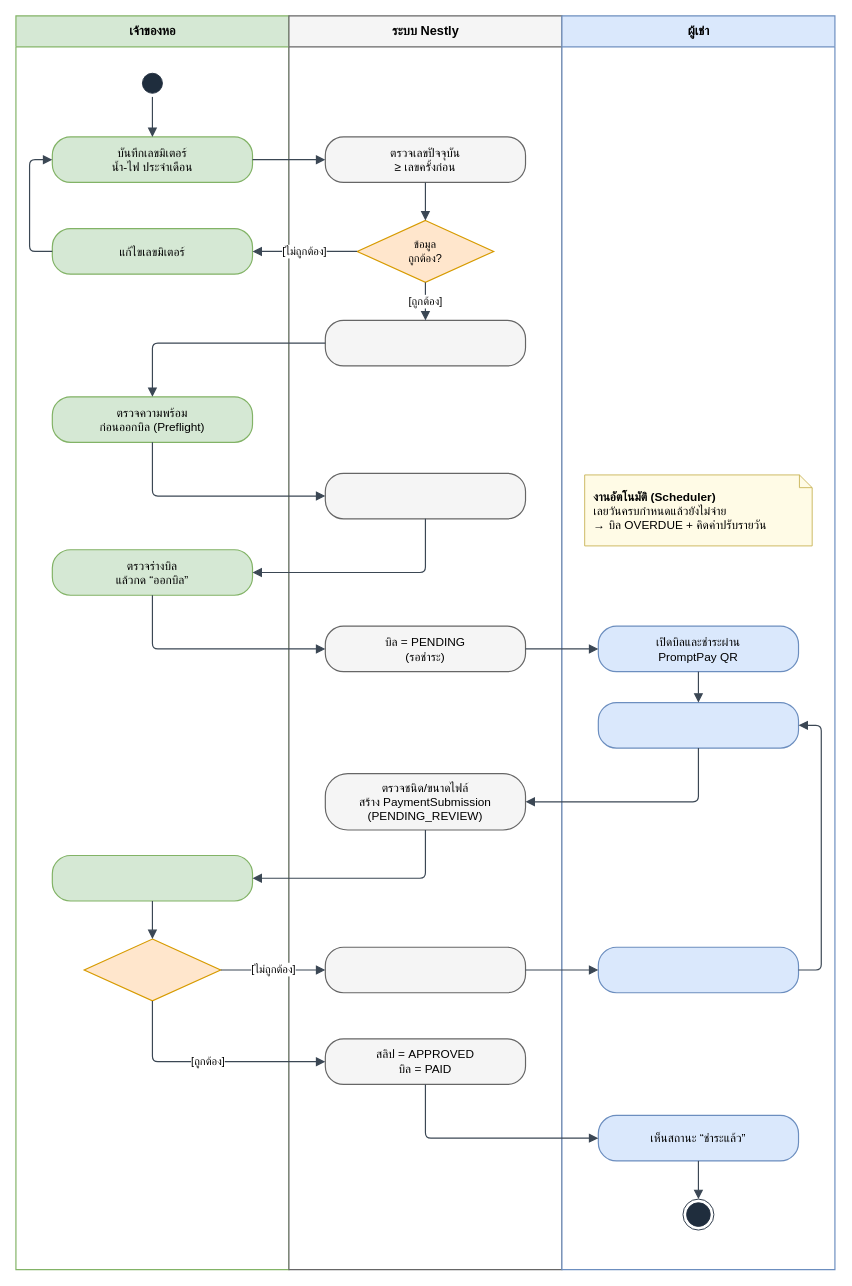
The diagram is 852 pixels wide and 1286 high, and some of its shapes have lost their labels. Here are the shapes that lost their labels. From the top down, the centre of each, then its label:
the point at 425,342: บันทึก MeterReading
the point at 425,495: คำนวณค่าเช่า ค่าน้ำ ค่าไฟ สร้างร่างบิล (DRAFT)
the point at 698,725: อัปโหลดสลิป
the point at 152,877: ตรวจสลิปเทียบยอดบิล
the point at 152,969: สลิป ถูกต้อง?
the point at 425,969: สลิป = REJECTED บันทึกเหตุผล
the point at 698,969: เห็นเหตุผล แล้วส่งสลิปใหม่
